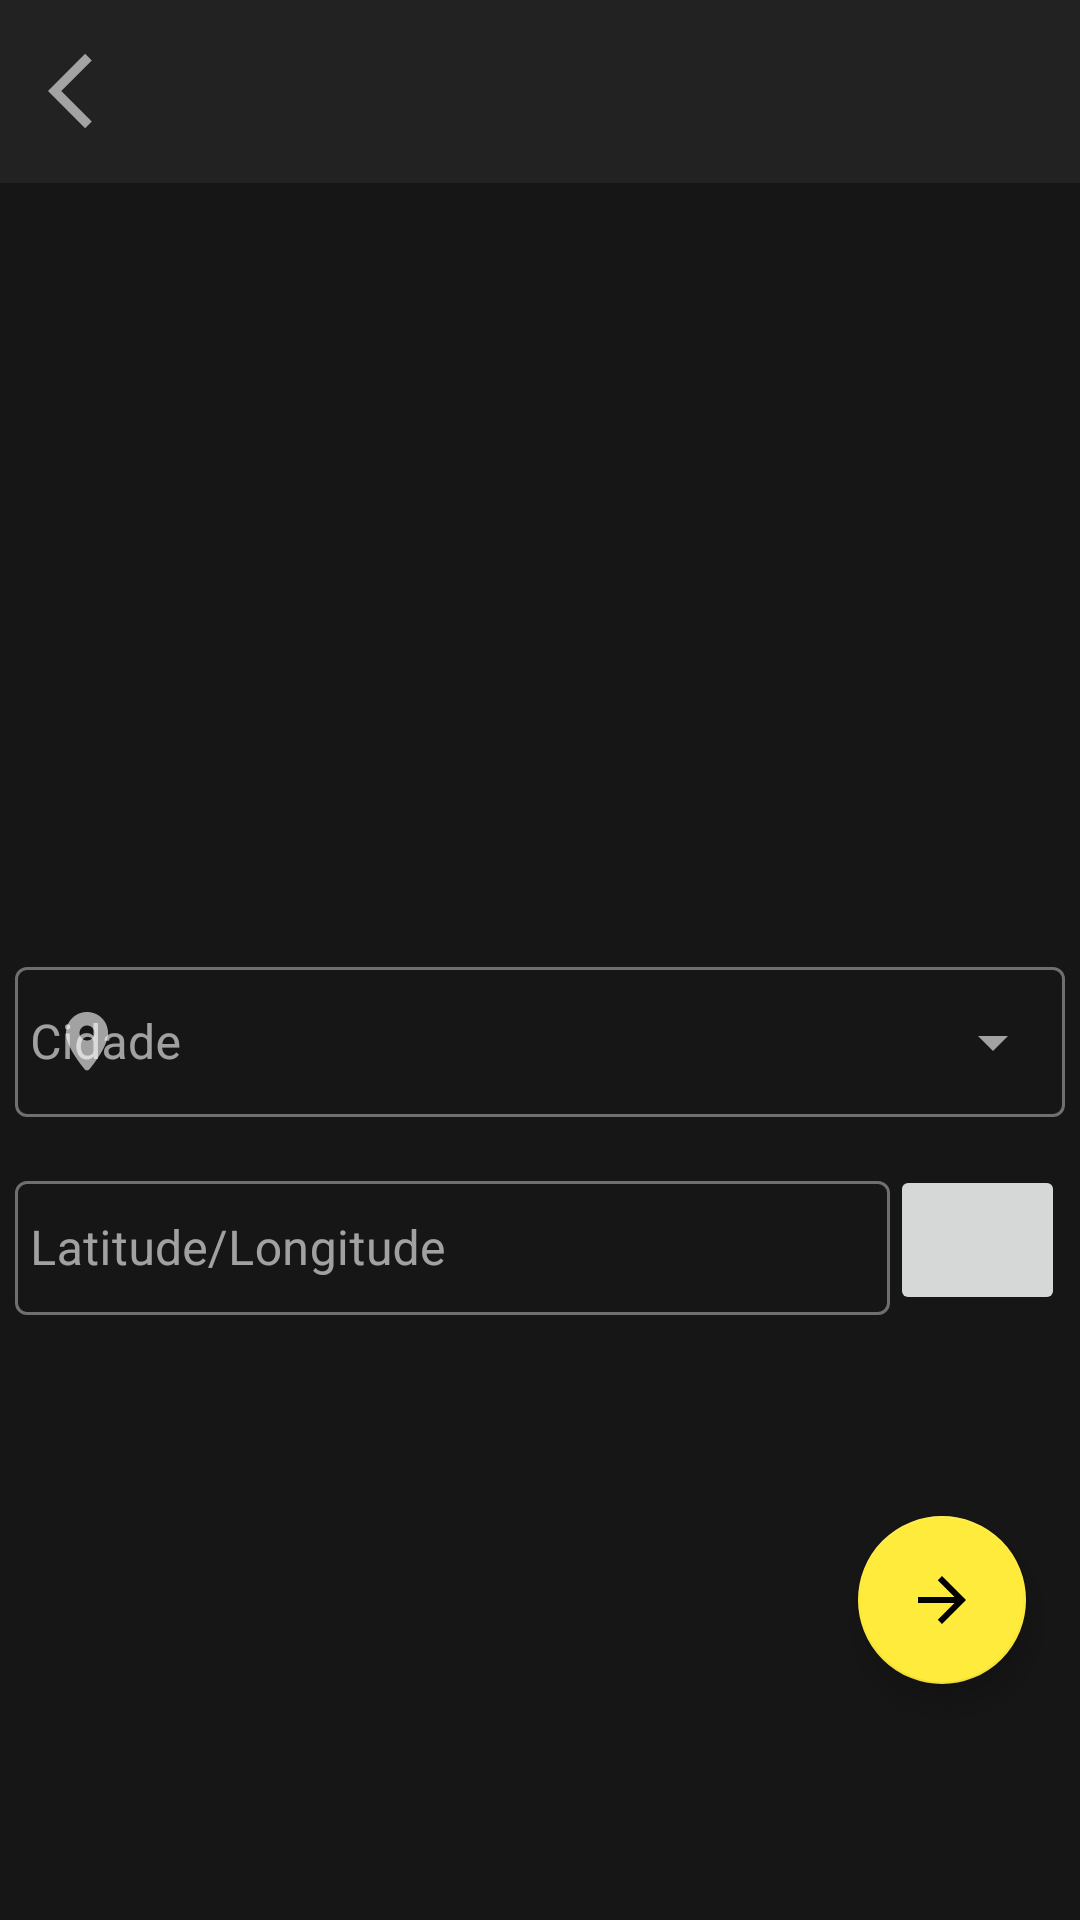

Icon click points for this 1080 × 1920 phone screenshot, format point (x, y):
seta continuar: point (942, 1600)
voltar: point (70, 91)
